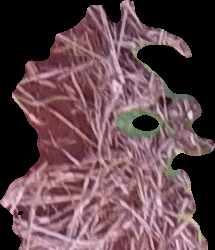soil: (1, 1, 214, 250)
